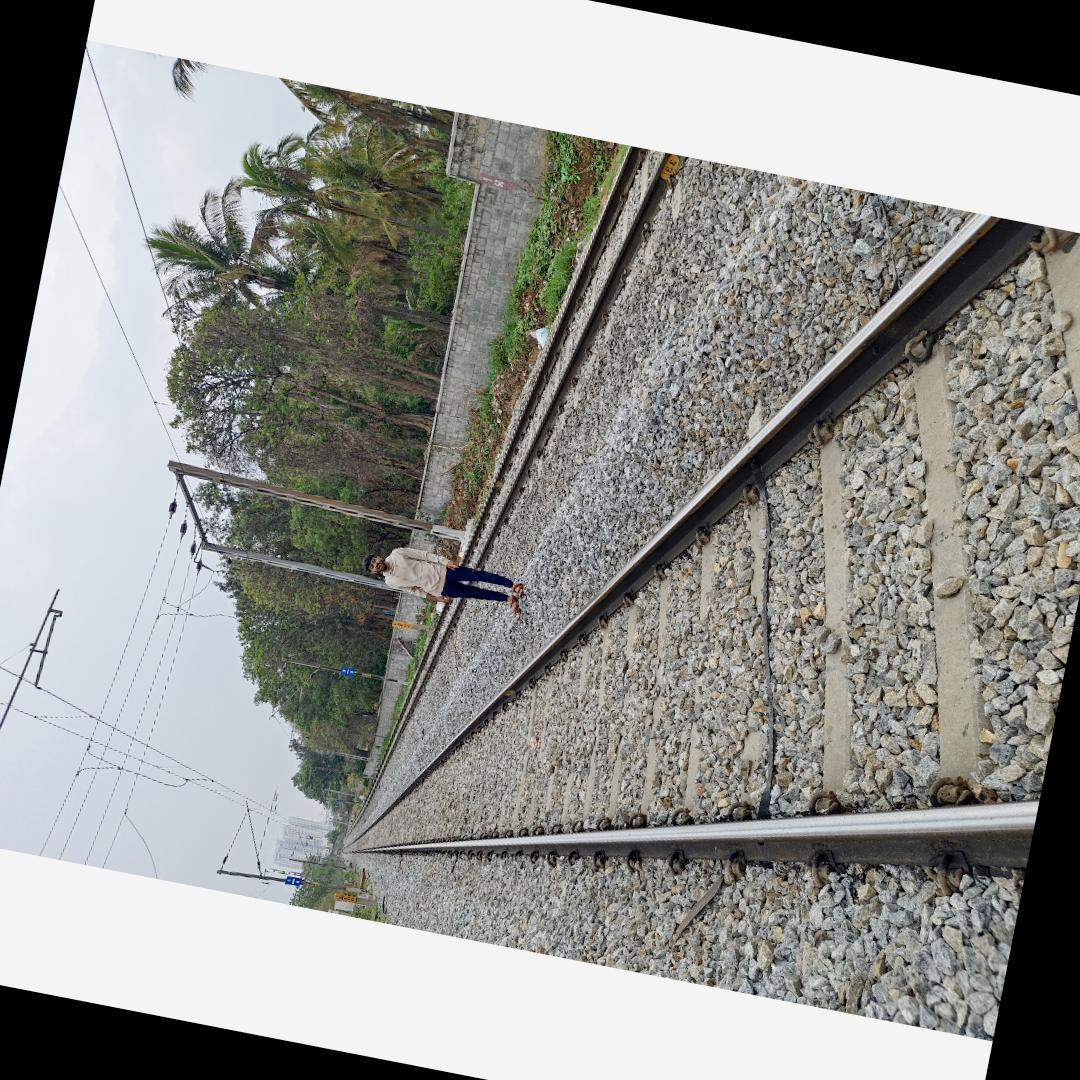standing: (356, 536, 530, 618)
track: (333, 201, 1080, 907)
